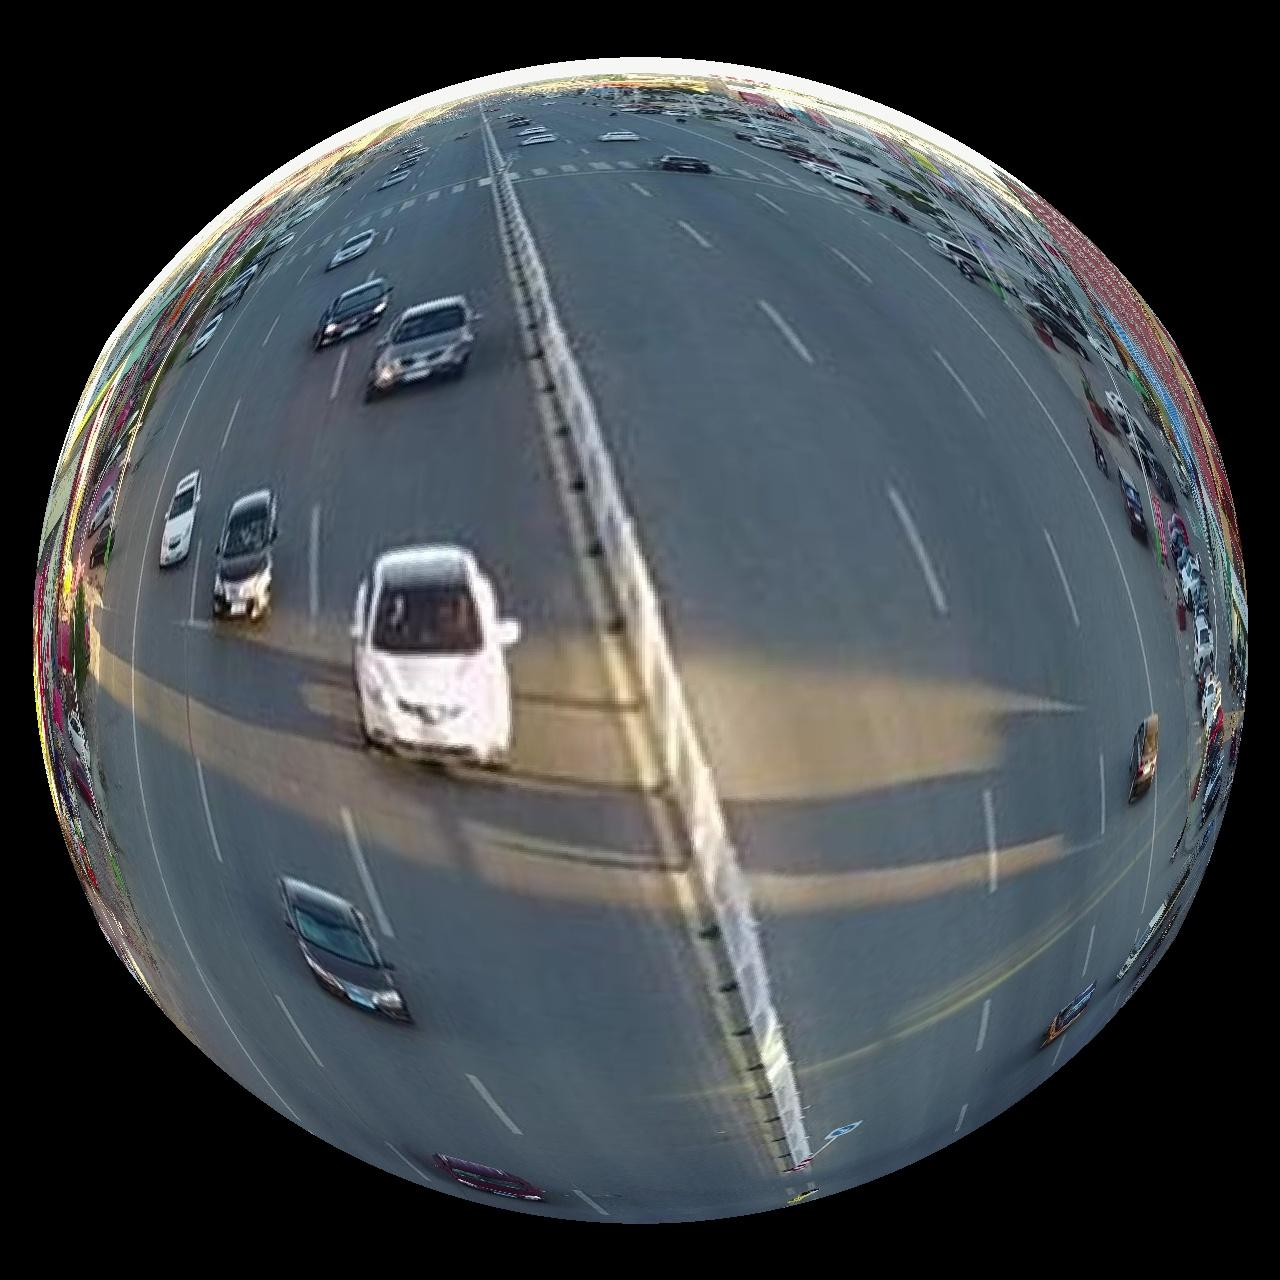building: (1009, 181, 1244, 567)
cars: (350, 544, 520, 765), (277, 877, 411, 1024), (365, 294, 481, 402), (211, 488, 275, 622), (313, 279, 392, 349), (433, 1156, 545, 1204), (158, 470, 199, 567), (1046, 983, 1099, 1049), (1130, 713, 1162, 804), (326, 229, 377, 268), (652, 152, 719, 172), (1101, 753, 1109, 837), (598, 128, 641, 142)
